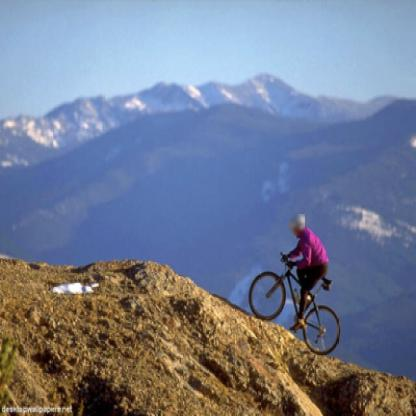Helmet: (287, 212, 310, 237)
